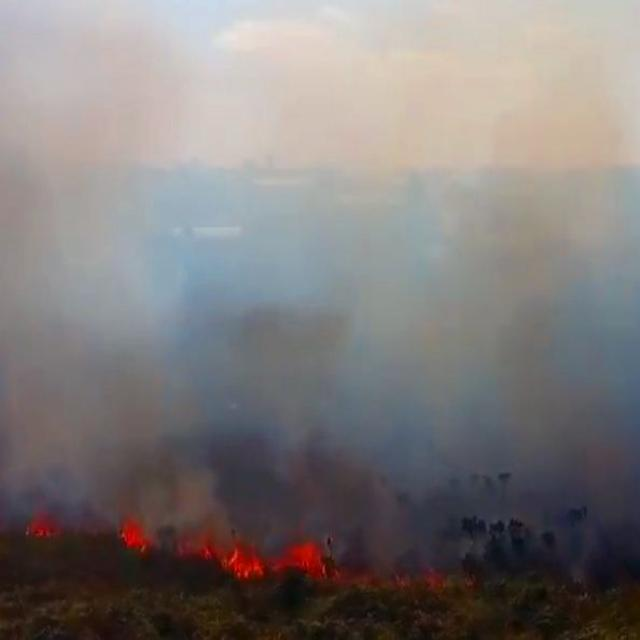Fire: (19, 501, 476, 603)
Smoke: (3, 0, 640, 530)
